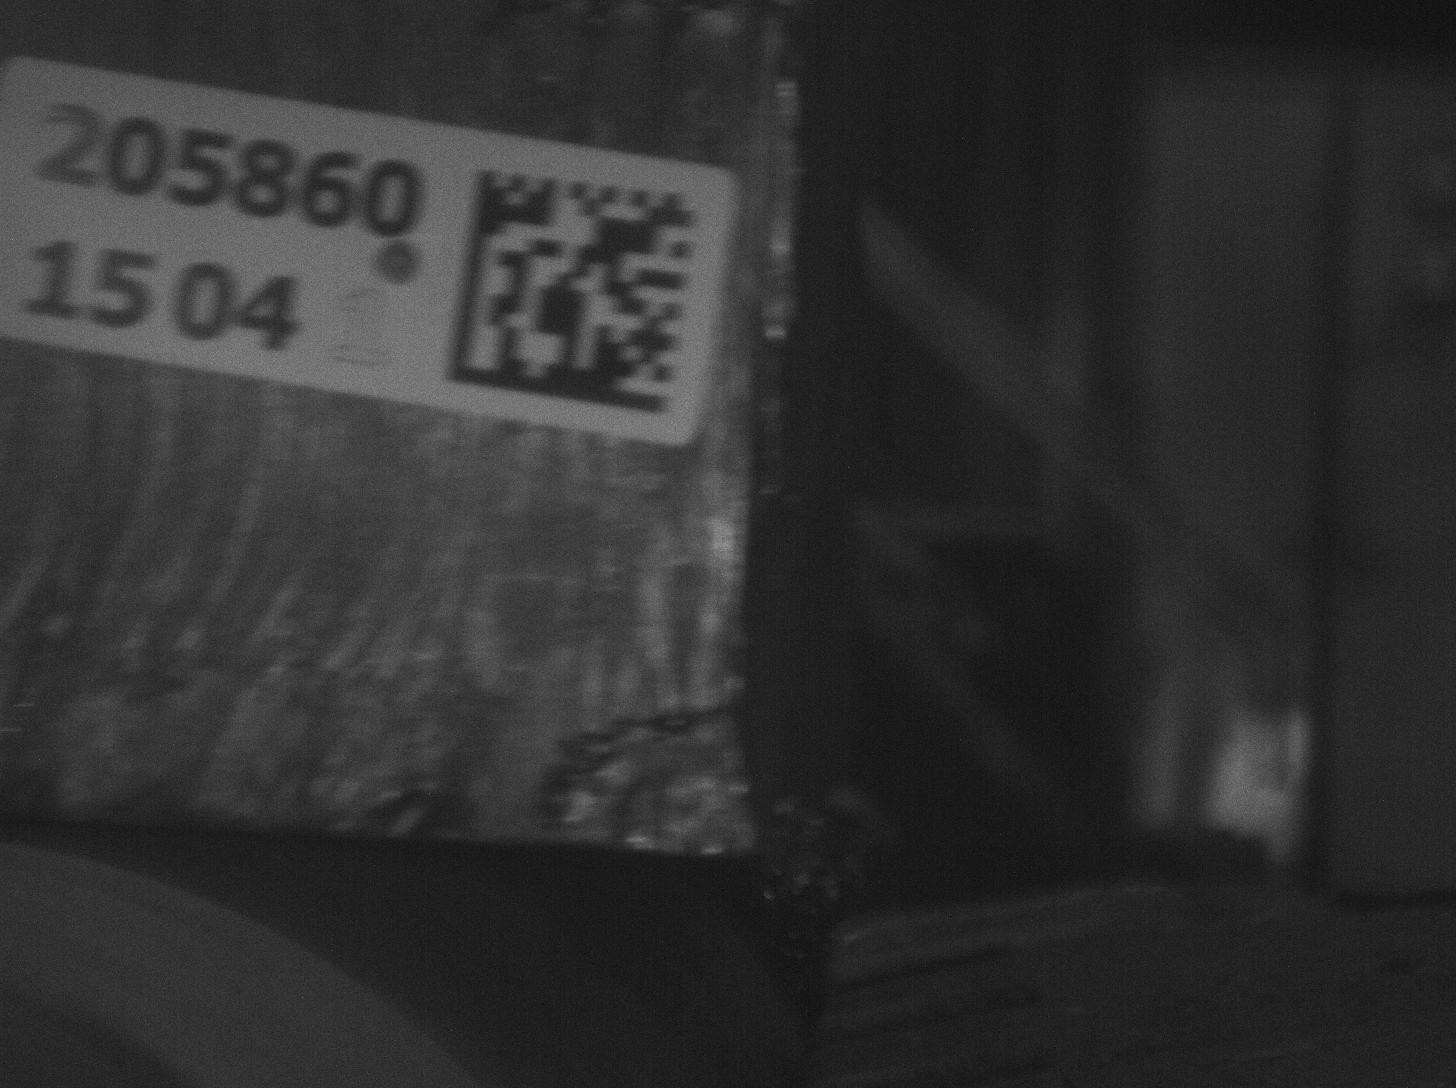data matrix: (439, 155, 714, 426)
